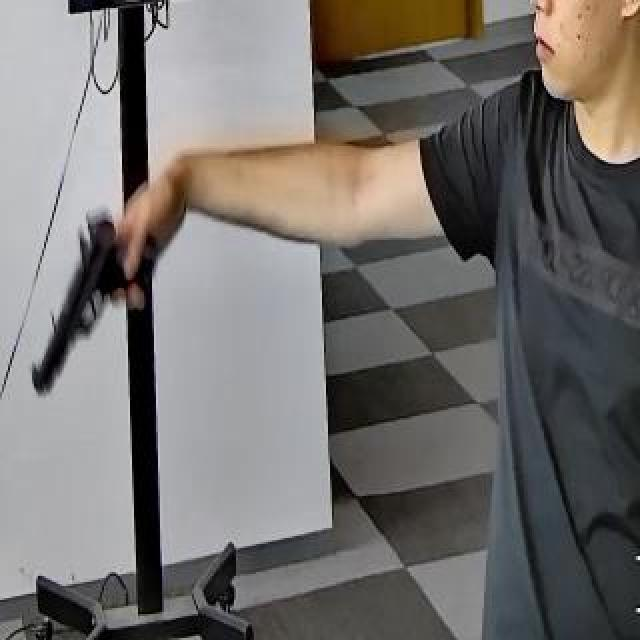Guns: (9, 193, 177, 424)
